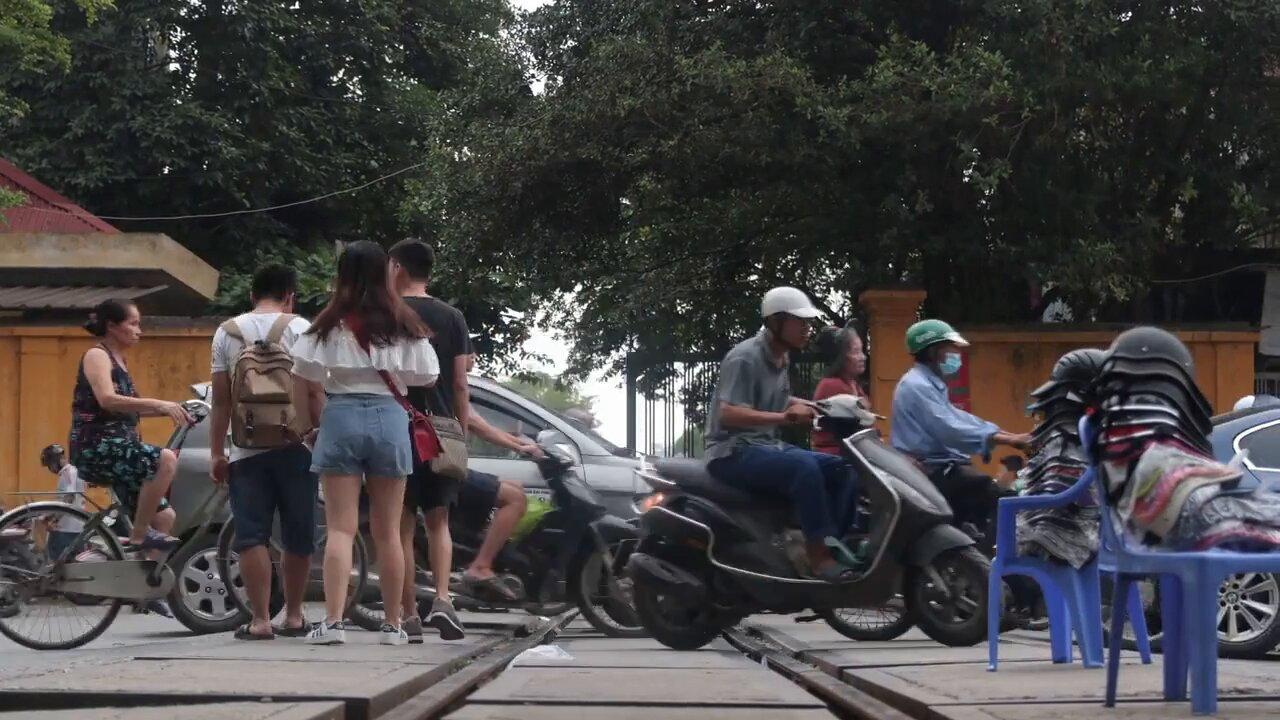bicyclist: (0, 296, 370, 653)
driver: (625, 285, 1007, 650)
helmet: (760, 285, 824, 351), (906, 319, 973, 380)
no-helmet: (332, 240, 400, 303), (84, 296, 143, 350), (814, 317, 866, 375), (249, 261, 297, 313), (388, 237, 433, 292)
